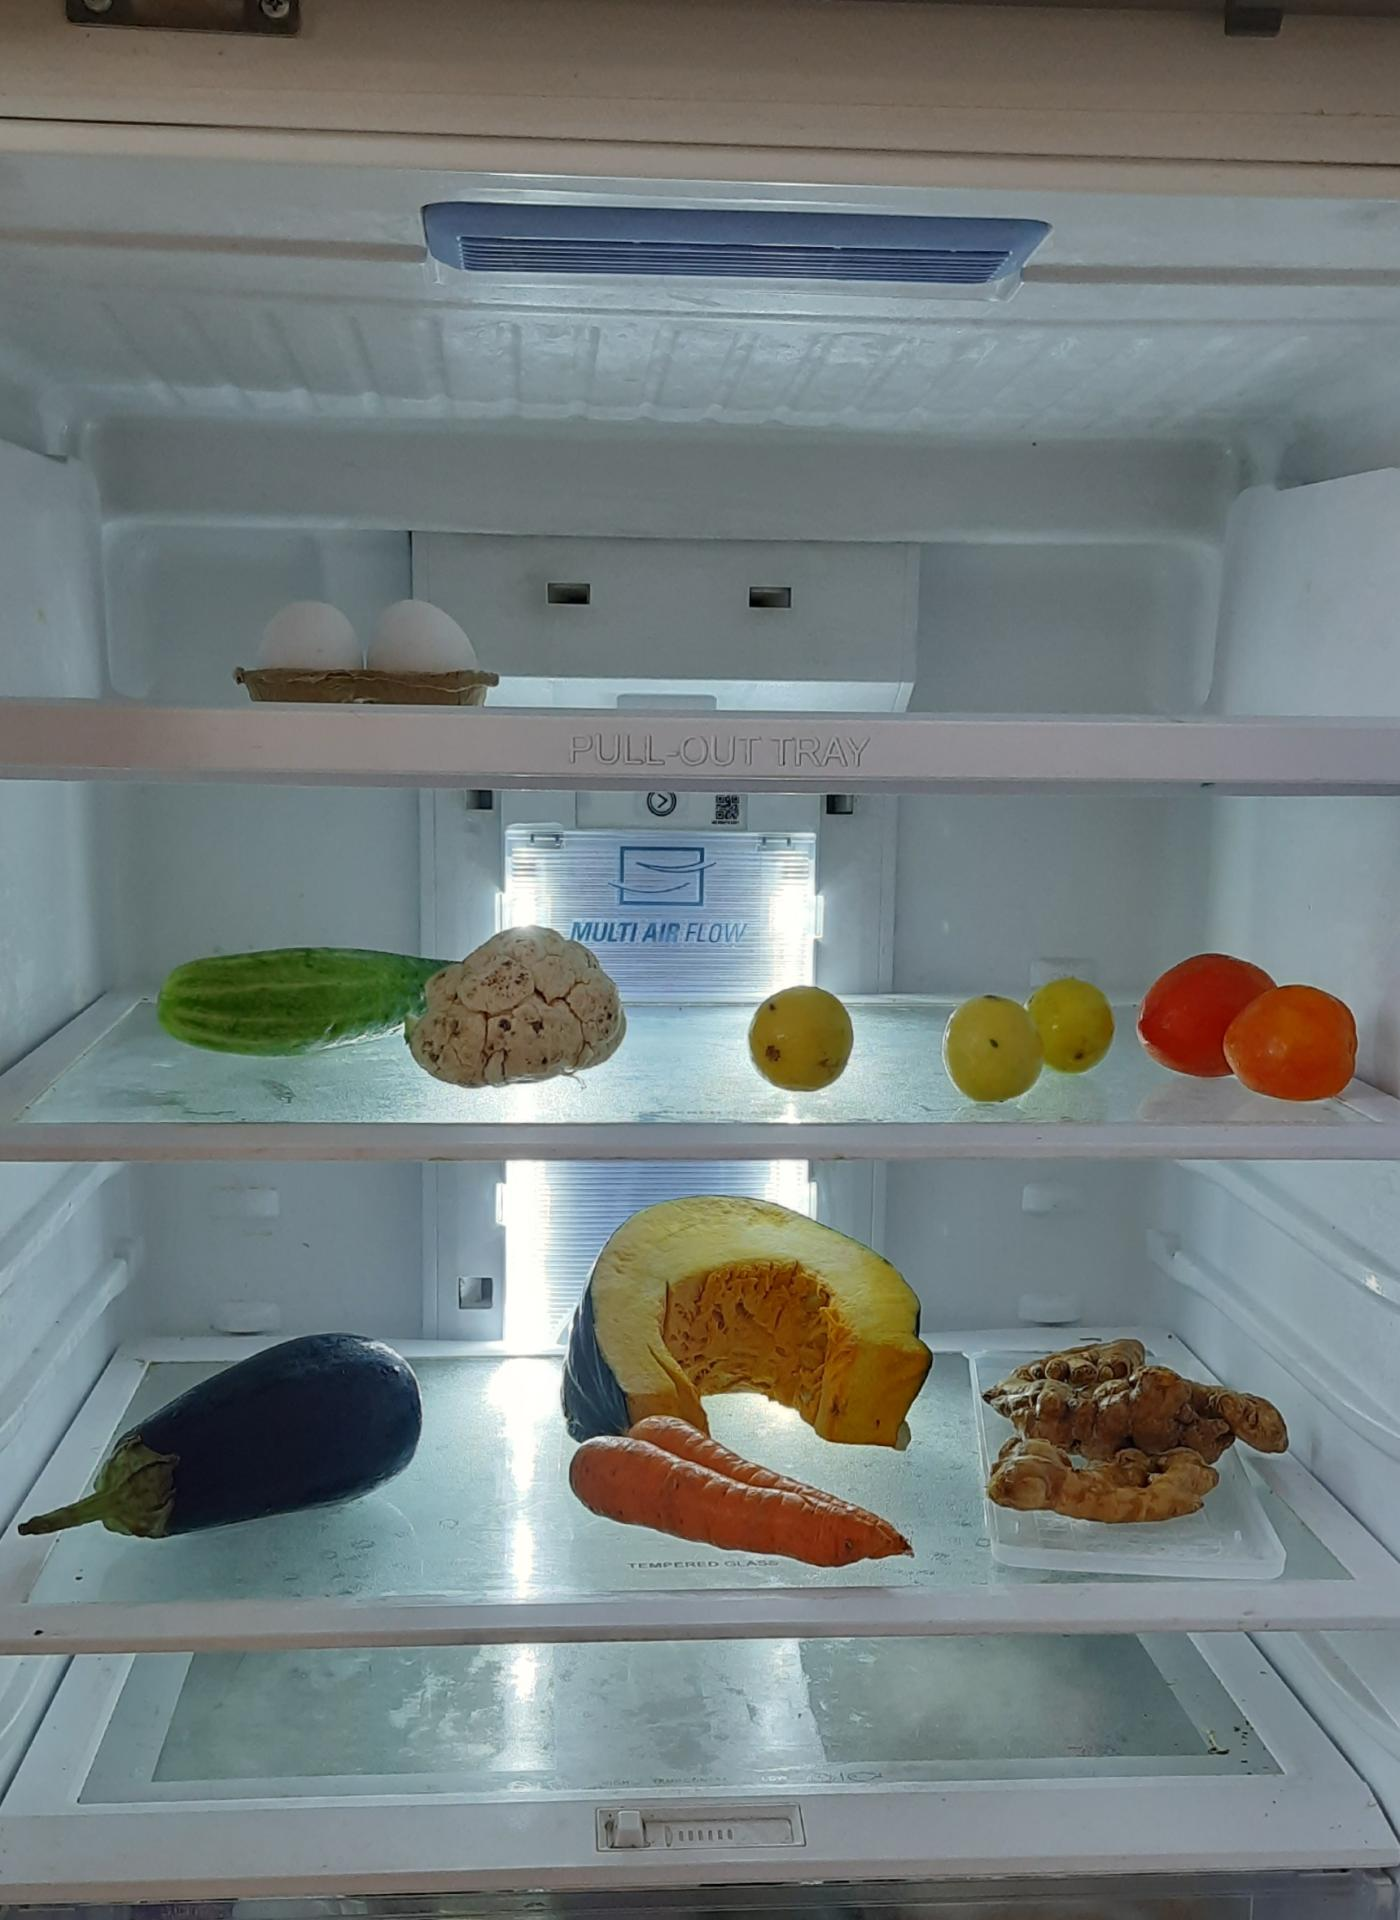brinjal: (27, 1330, 432, 1538)
carrots: (987, 1315, 1302, 1523), (564, 1424, 911, 1562)
cauliflower: (407, 930, 628, 1091)
cucumber: (148, 948, 495, 1066)
egg: (245, 590, 507, 707)
lemon: (941, 972, 1115, 1103), (742, 978, 862, 1091)
pumpkin: (570, 1190, 939, 1440)
tomato: (1139, 948, 1370, 1105)
